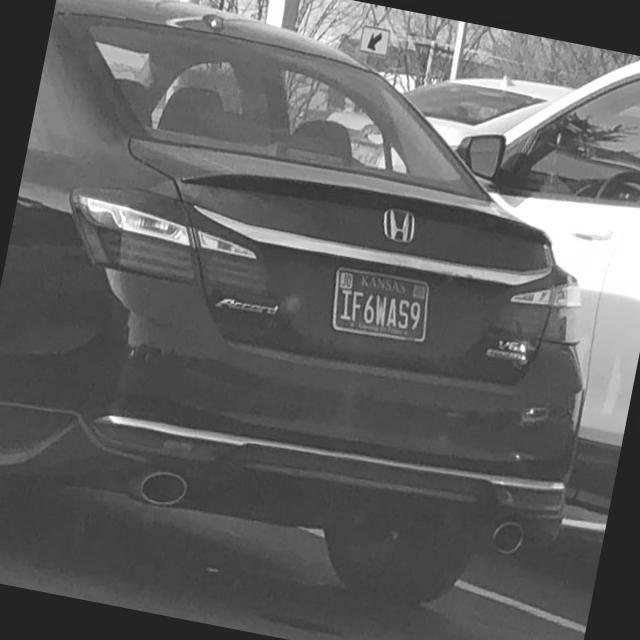LicensePlate: (331, 266, 431, 343)
